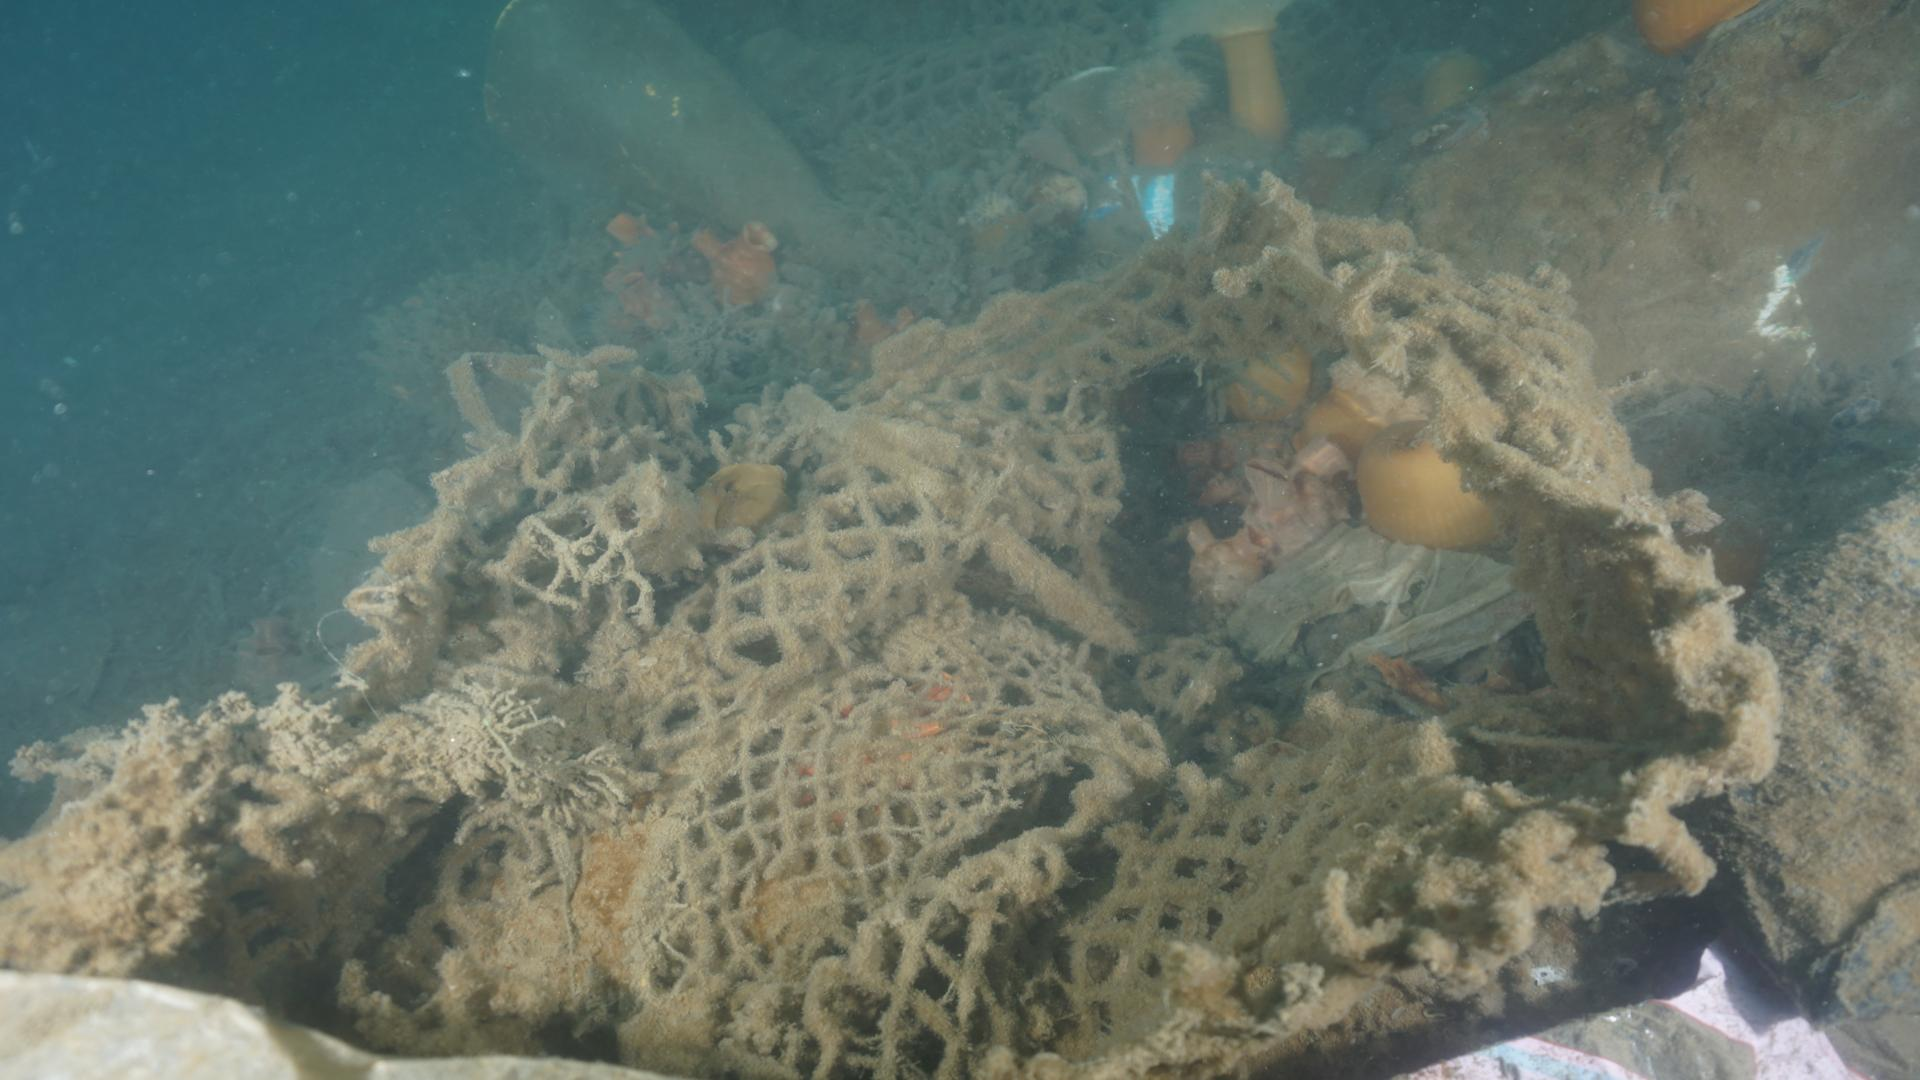fish net: (200, 0, 1439, 1080)
